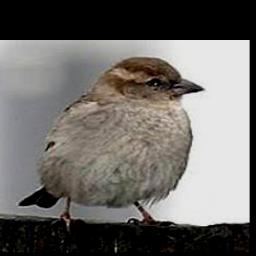Sparrow: (17, 56, 205, 234)
